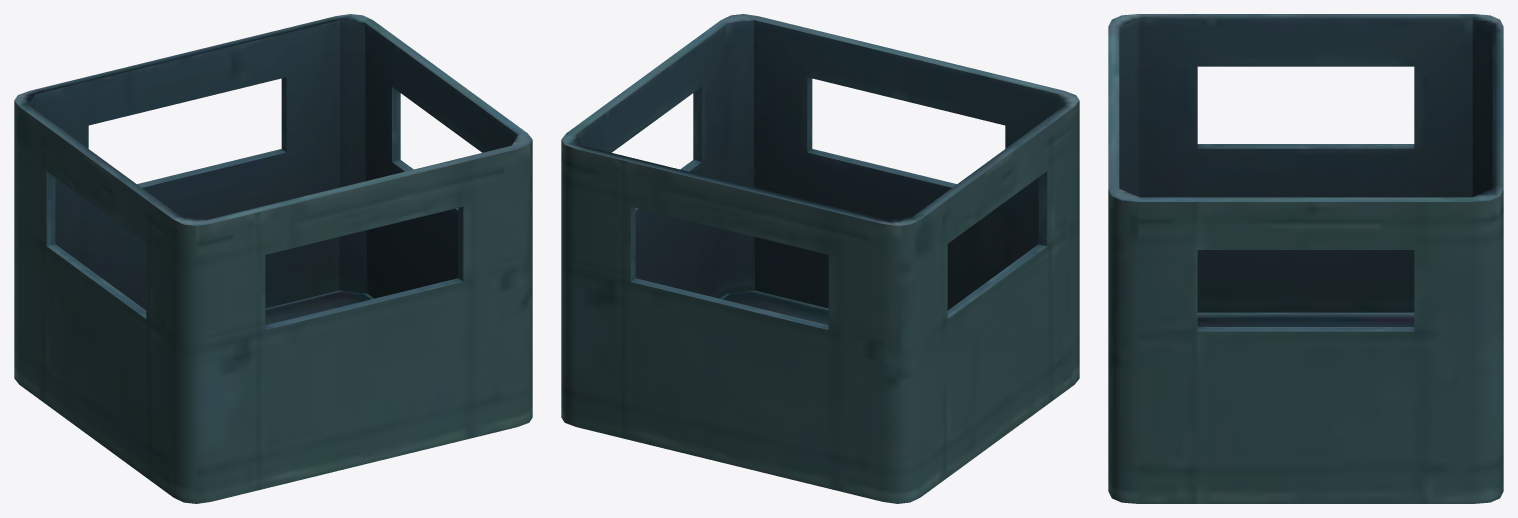
The picture shows the model from 3 angles, left to right: view 1: azimuth 30°, elevation 25°; view 2: azimuth 150°, elevation 25°; view 3: azimuth 270°, elevation 25°; orthographic projection. The views are drawn at different scales.
Parts seen in each view (by area): view 1: body0_model0_lod0_mesh0; view 2: body0_model0_lod0_mesh0; view 3: body0_model0_lod0_mesh0.
Part boxes in pixels (x1=…): body0_model0_lod0_mesh0: x1=14, y1=14, x2=532, y2=503; body0_model0_lod0_mesh0: x1=561, y1=14, x2=1079, y2=503; body0_model0_lod0_mesh0: x1=1108, y1=14, x2=1503, y2=503.
Size of the model in its own units: 36 by 27 by 32.
1 material, 1 textured.
